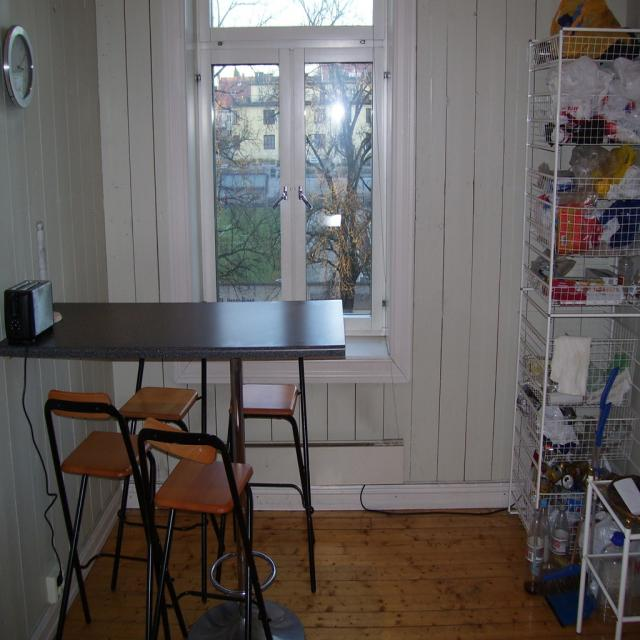chair: (140, 425, 275, 640), (44, 389, 152, 632), (228, 360, 317, 594)
desk: (2, 300, 344, 636)
